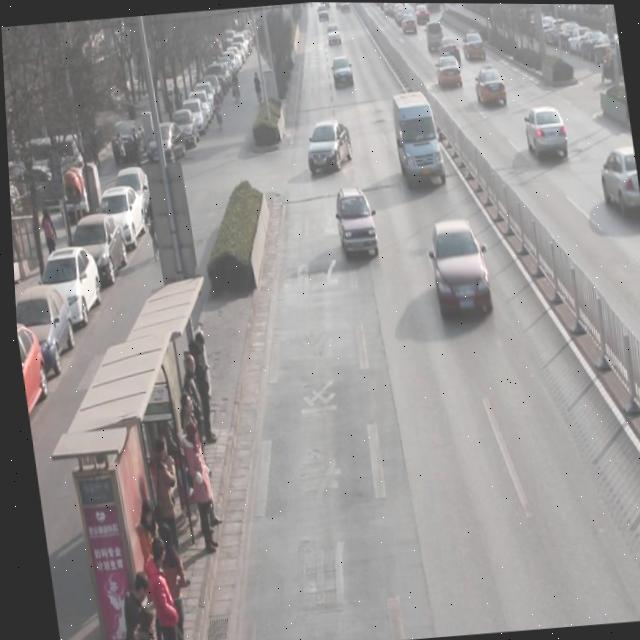car: (422, 217, 492, 321), (329, 185, 378, 263), (299, 117, 353, 175), (595, 147, 636, 216), (520, 104, 568, 161), (471, 62, 507, 109), (432, 51, 463, 91), (459, 27, 486, 63), (329, 55, 354, 90), (421, 20, 447, 53), (437, 36, 461, 65), (399, 11, 417, 36), (324, 23, 340, 46), (413, 3, 429, 25)
truck: (388, 90, 445, 191)
